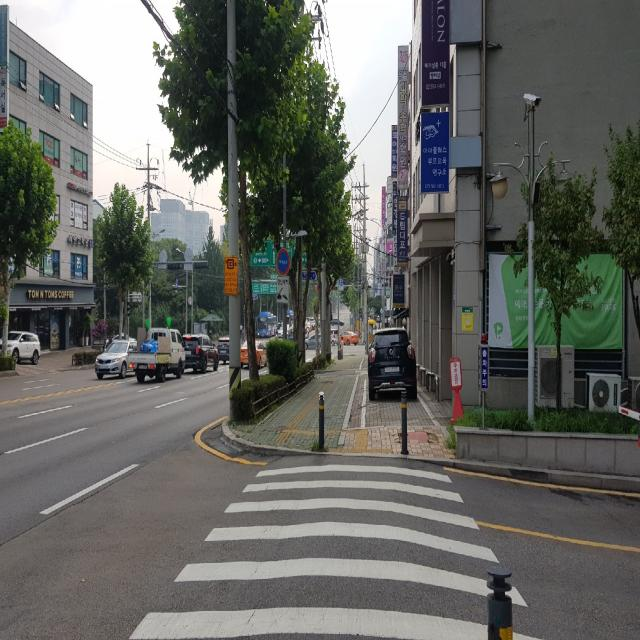횡단보도: (127, 464, 544, 640)
